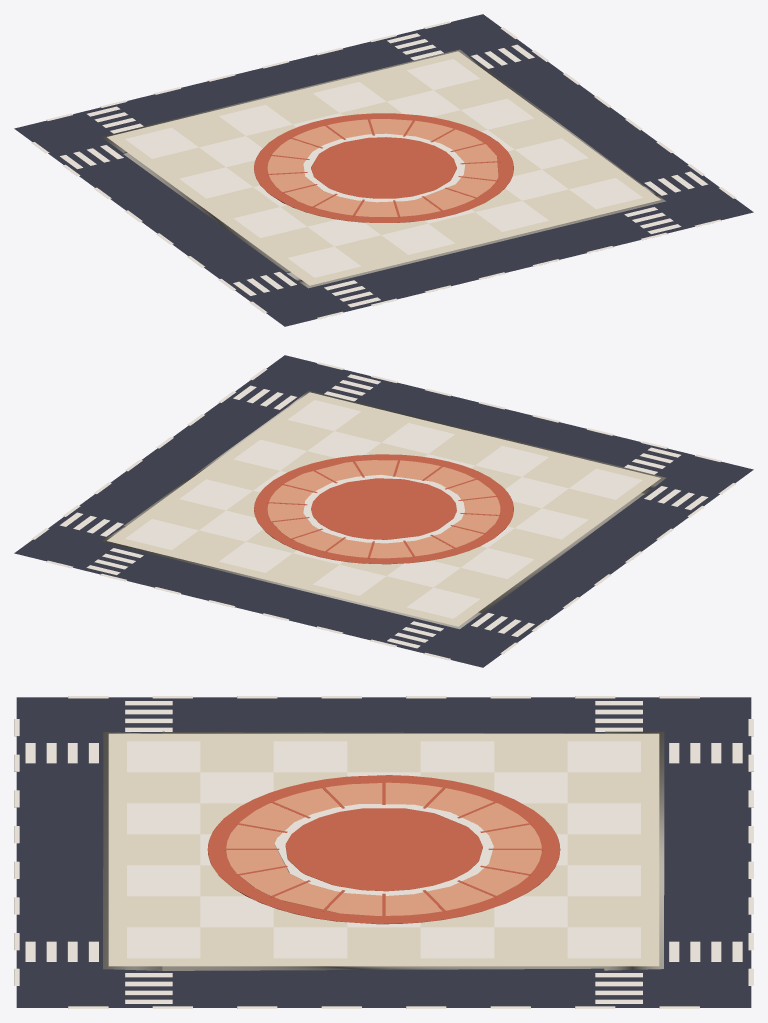
File: tile_plaza.glb
3 renders of one model, top to bottom at view 1: azimuth 30°, elevation 25°; view 2: azimuth 150°, elevation 25°; view 3: azimuth 270°, elevation 25°, orthographic. The views are drawn at different scales.
Visible parts, largest first — view 1: tile_plaza; view 2: tile_plaza; view 3: tile_plaza.
Part boxes in pixels (x1,y1,x2,y2): tile_plaza: (14,14,753,326); tile_plaza: (14,355,753,667); tile_plaza: (14,696,753,1008).
Bounding box in the file's own units: 40.3 × 0.2017 × 40.3.
1 material, 1 textured.
